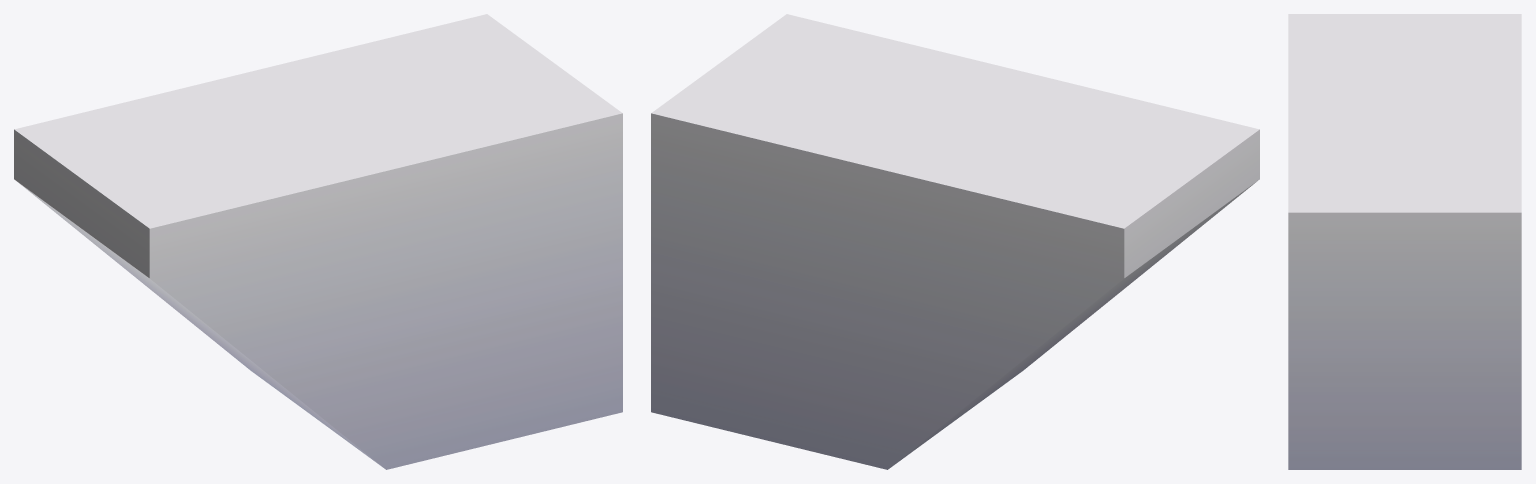
Rendered from kenney-brick-none-lq-brick-slope-inverted-1-x-2.glb.
3 renders of one model, left to right at view 1: azimuth 30°, elevation 25°; view 2: azimuth 150°, elevation 25°; view 3: azimuth 270°, elevation 25°, orthographic. The views are drawn at different scales.
Parts seen in each view (by area): view 1: none-lq-brick-slope-inverted-1x2; view 2: none-lq-brick-slope-inverted-1x2; view 3: none-lq-brick-slope-inverted-1x2.
Boxes of the visible parts, left/top/right/bottom form: none-lq-brick-slope-inverted-1x2: left=14, top=14, right=622, bottom=469; none-lq-brick-slope-inverted-1x2: left=651, top=14, right=1259, bottom=469; none-lq-brick-slope-inverted-1x2: left=1288, top=14, right=1521, bottom=469.
Size of the model in its own units: 0.159 by 0.096 by 0.079.
1 material, 1 textured.
